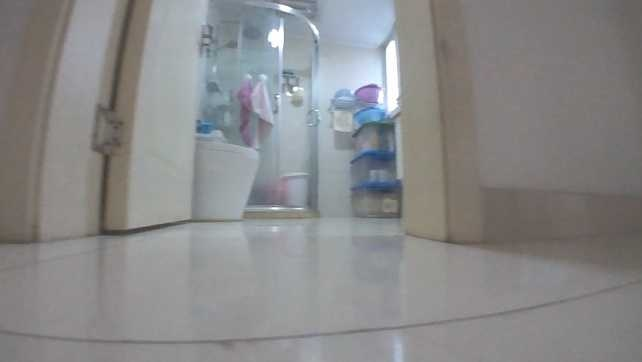door_anno: (92, 1, 213, 231)
toilet: (192, 139, 264, 224)
